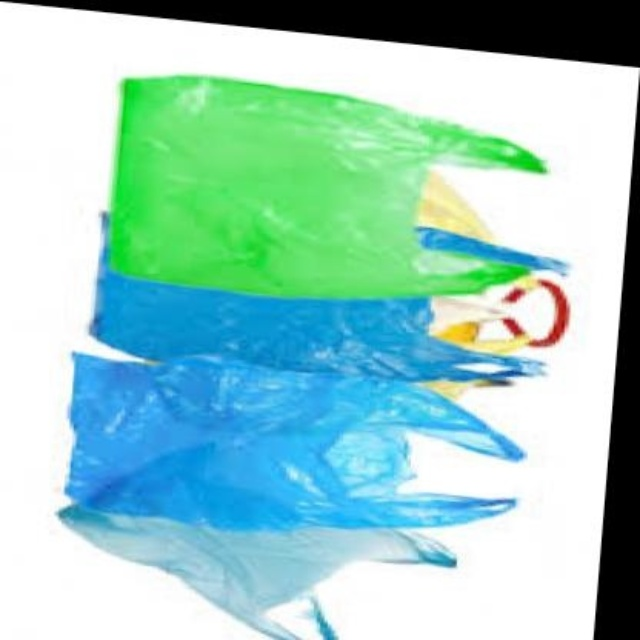trash: (60, 75, 566, 638)
